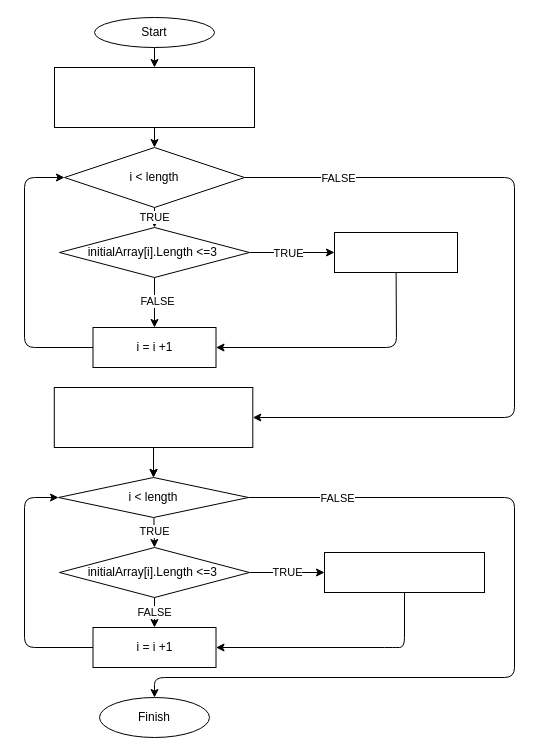
Some shapes in this 540 by 755 pixel diagram are drawn without their labels. Each missing label, with the box of its shape:
count = count +1: (334, 232, 458, 272)
finalArray [string, count] j=0: (53, 386, 253, 448)
finalArray[j] = initialArray[i] j = j +1: (324, 552, 484, 592)
length initialArray [string, length] count=0 i = 0: (54, 66, 254, 128)
